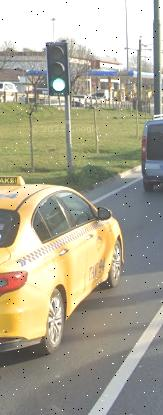greenlight: (48, 41, 69, 96)
